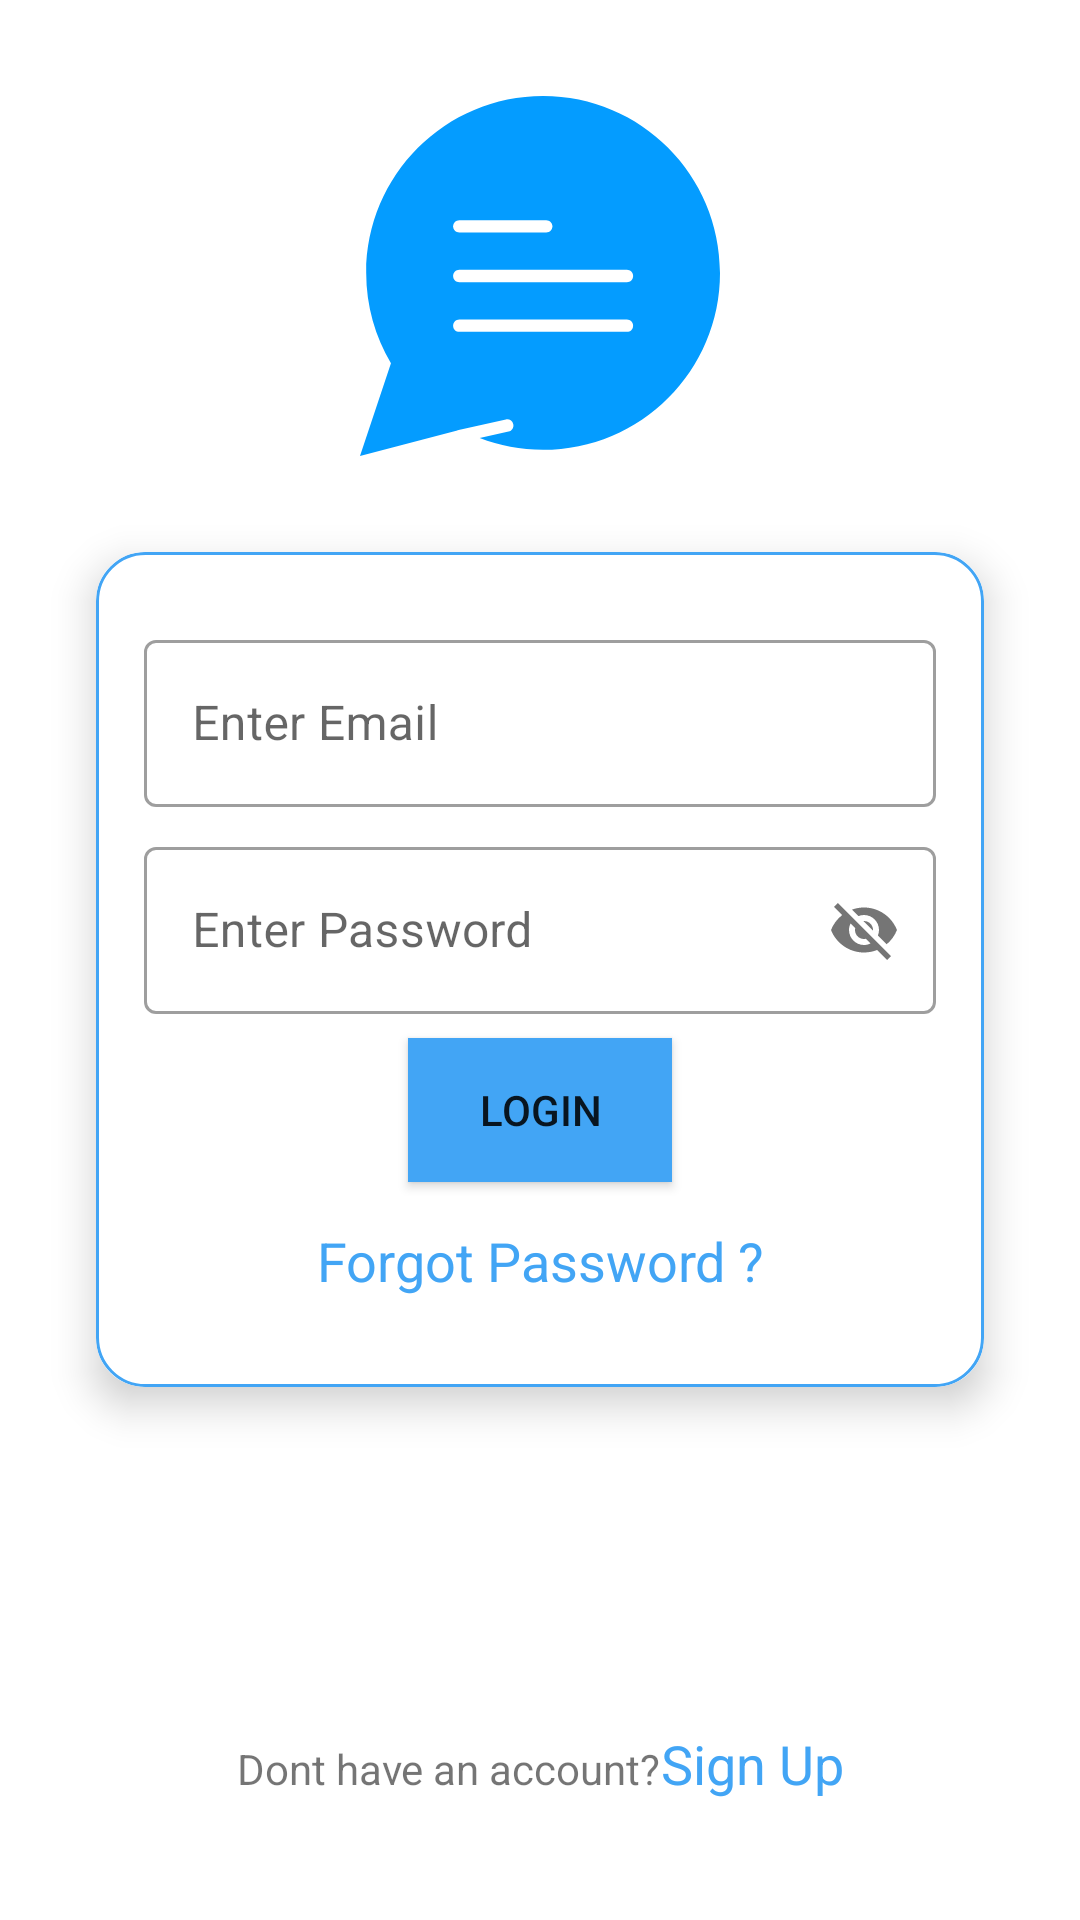

Point at icon controls on the screen. Image size 1080 × 1920, points as (x,y).
chat: (540,276)
